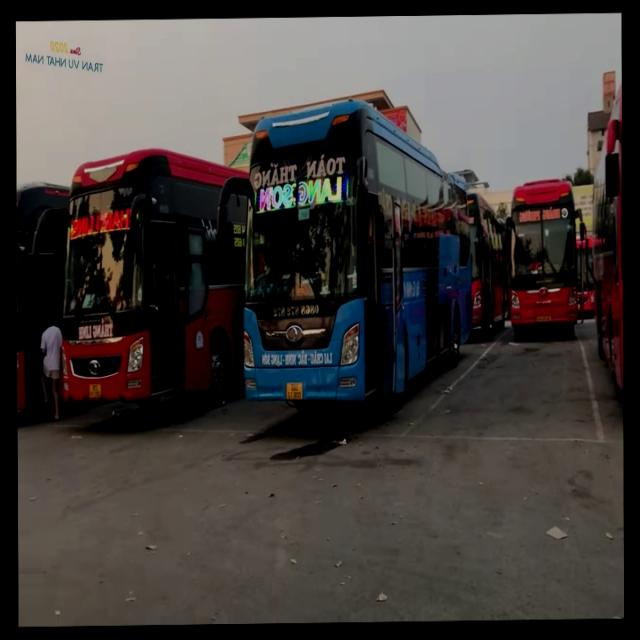bien_vang: (285, 377, 304, 400)
